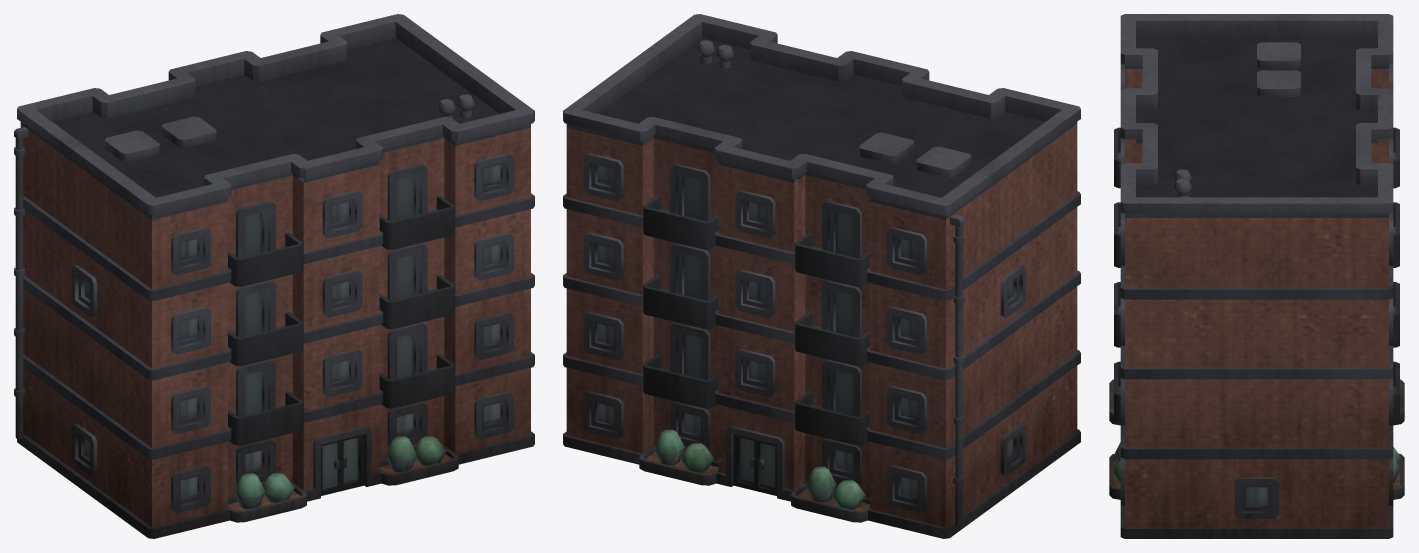
Rendered from building-j-brown.glb.
3 renders of one model, left to right at view 1: azimuth 30°, elevation 25°; view 2: azimuth 150°, elevation 25°; view 3: azimuth 270°, elevation 25°, orthographic.
Parts seen in each view (by area): view 1: building-j; view 2: building-j; view 3: building-j.
Boxes of the visible parts, x1,y1,x2,y2 form: building-j: (14,14,534,538); building-j: (563,14,1080,538); building-j: (1109,14,1404,538).
Size of the model in its own units: 2.08 by 1.69 by 1.34.
Materials: 1 (1 with a texture image).
